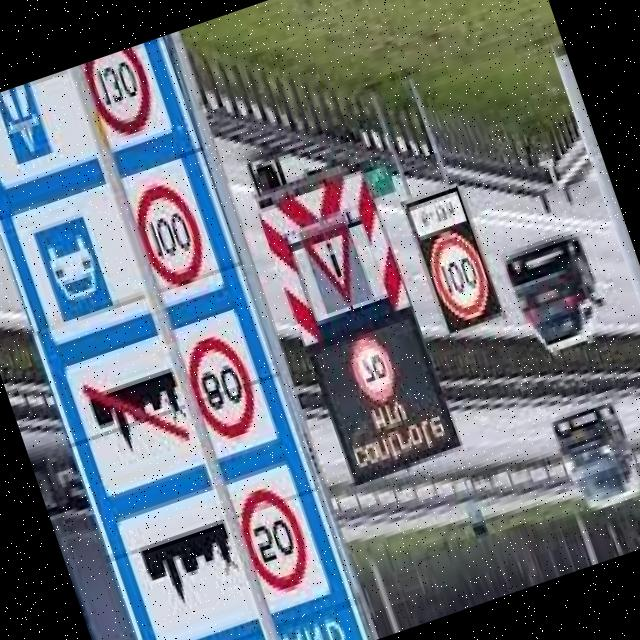speed_limit_100: (120, 162, 215, 294), (420, 222, 498, 322)
speed_limit_50: (230, 476, 321, 601)
speed_limit_70: (342, 327, 405, 404)
speed_limit_80: (177, 324, 270, 452)
